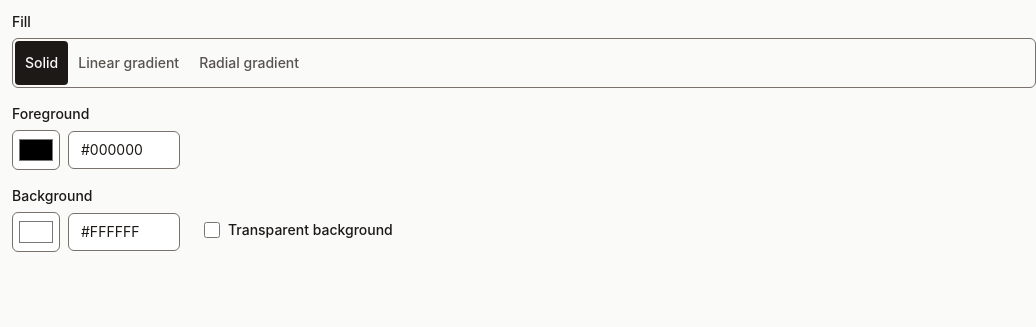
Scenario: ColorFields › offers the end color and the angle for a linear gradient, only the color for radial
The image size is (1036, 327).
Click the radio button labelled "Linear gradient": (129, 62) [78,54,179,71]
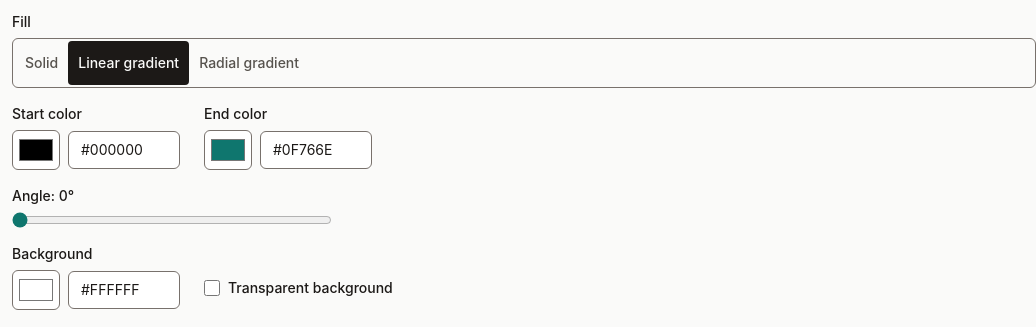
Expected: the field labelled "End color" is shown, [260,131,372,169]
Set the slider labelled "Angle: 0°" to "90": (96, 220) [12,212,332,228]
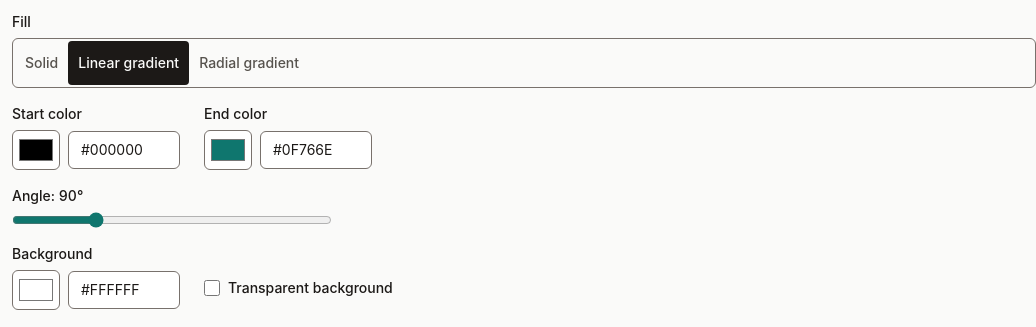
Click the radio button labelled "Radial gradient": (249, 62) [199,54,299,71]
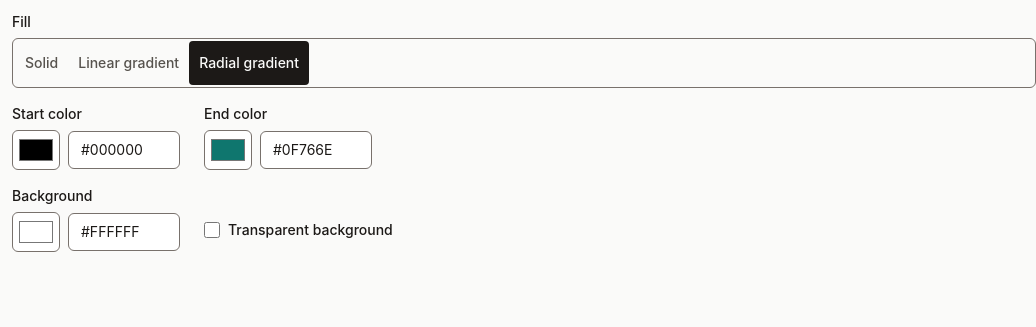
Expected: the label labelled "Angle" is gone
